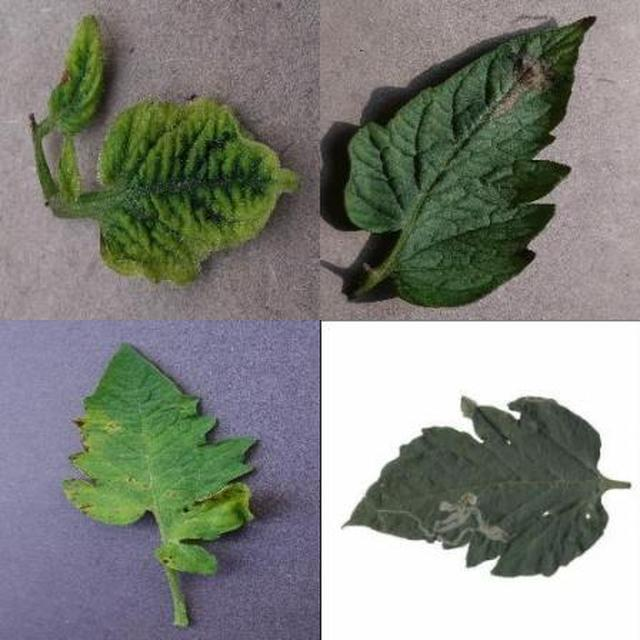Yellow Leaf Curl Virus: (37, 104, 640, 640)
